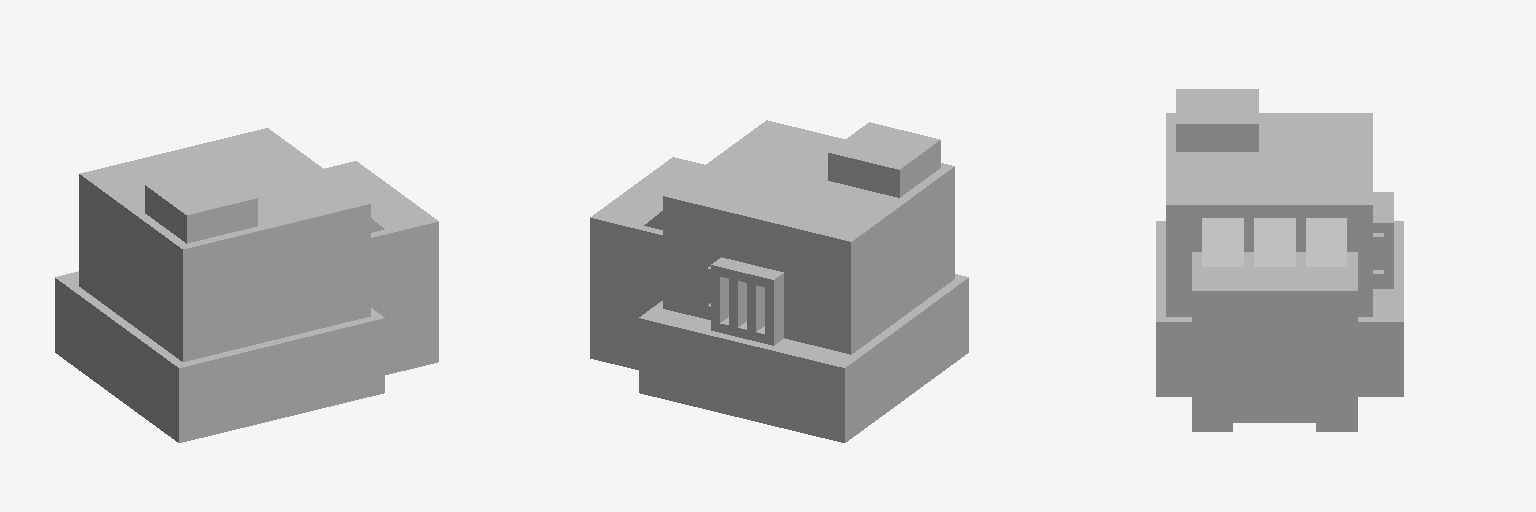
The model's file is super_furnace.obj.
The picture shows the model from 3 angles: view 1: azimuth 30°, elevation 25°; view 2: azimuth 150°, elevation 25°; view 3: azimuth 270°, elevation 25°; orthographic projection.
Parts seen in each view (by area): view 1: cube2, cube1, cube3, cube7, cube4; view 2: cube2, cube1, cube3, cube7, cube5, bar4, bar2, bar1, bar3; view 3: cube2, cube3, cube1, cube7, cube6, cube9, cube10, cube8, cube5, cube4, bar1.
Boxes of the visible parts, <box> form: cube2: <box>79,128,370,361</box>; cube1: <box>55,271,384,442</box>; cube3: <box>324,161,438,337</box>; cube7: <box>145,168,257,243</box>; cube4: <box>385,325,438,374</box>; cube2: <box>663,120,954,354</box>; cube1: <box>639,274,968,442</box>; cube3: <box>590,157,704,332</box>; cube7: <box>828,122,940,197</box>; cube5: <box>590,321,638,369</box>; bar4: <box>765,270,783,345</box>; bar2: <box>729,262,746,336</box>; bar1: <box>711,257,729,332</box>; bar3: <box>747,266,765,340</box>; cube2: <box>1166,113,1372,316</box>; cube3: <box>1192,252,1357,393</box>; cube1: <box>1156,221,1403,396</box>; cube7: <box>1176,89,1258,151</box>; cube6: <box>1233,394,1315,422</box>; cube9: <box>1202,218,1243,266</box>; cube10: <box>1254,218,1295,266</box>; cube8: <box>1306,218,1346,266</box>; cube5: <box>1316,394,1357,431</box>; cube4: <box>1192,394,1232,431</box>; bar1: <box>1373,219,1393,288</box>.
Bounding box in the file's own units: 3.88 × 2.88 × 3.